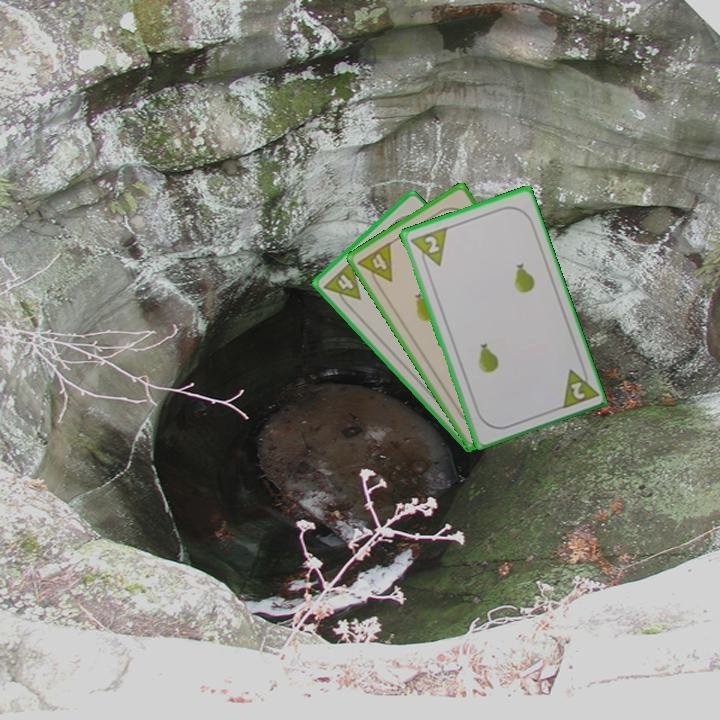2p: (556, 361, 599, 412), (406, 223, 449, 273)
4p: (320, 257, 364, 312), (354, 238, 395, 292)
